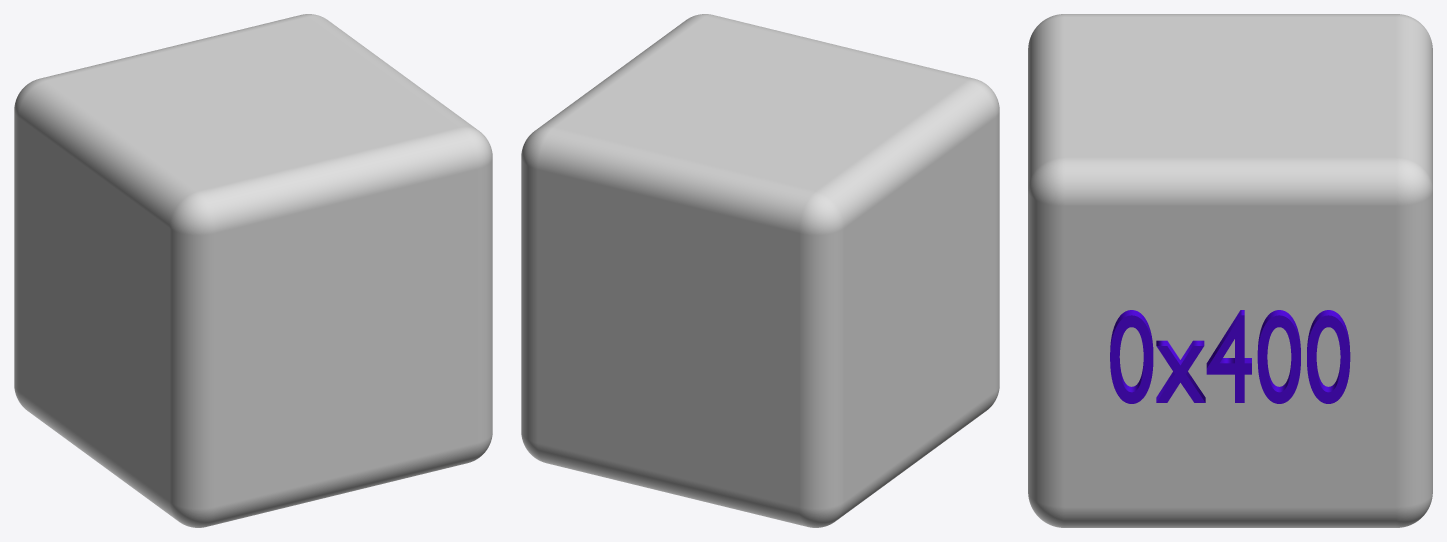
Rendered from Instr31.fbx.
3 renders of one model, left to right at view 1: azimuth 30°, elevation 25°; view 2: azimuth 150°, elevation 25°; view 3: azimuth 270°, elevation 25°, orthographic. The views are drawn at different scales.
Visible parts, largest first — view 1: Cube; view 2: Cube; view 3: Cube, Text.
Boxes of the visible parts, box(x1,y1,x2,y2) form: Cube: box(14, 14, 492, 527); Cube: box(521, 14, 999, 527); Cube: box(1028, 14, 1432, 527); Text: box(1110, 310, 1350, 403).
Bounding box in the file's own units: 69.29 × 67.15 × 67.15.
